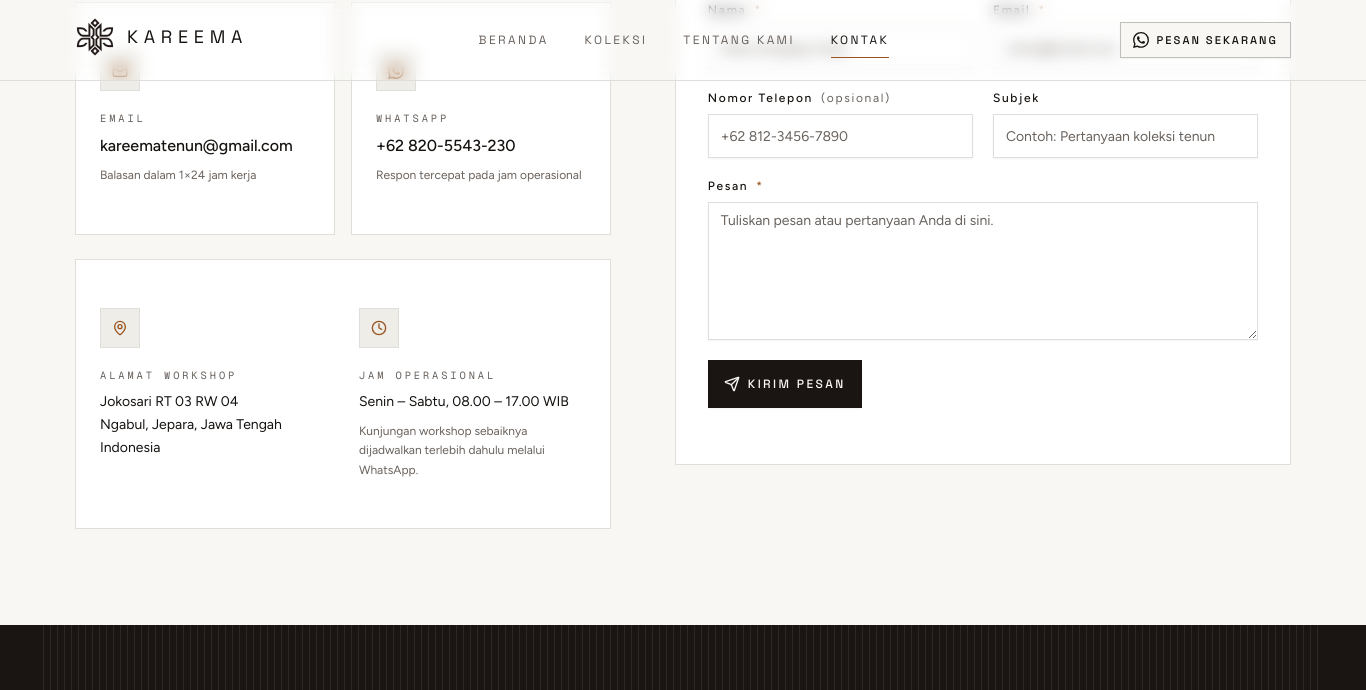
Test: ContactPage journey › blocks submission and reports required fields when the form is empty
(page scrolled)
Click the button "Kirim Pesan": [785, 384] box x1=708 y1=360 x2=862 y2=408
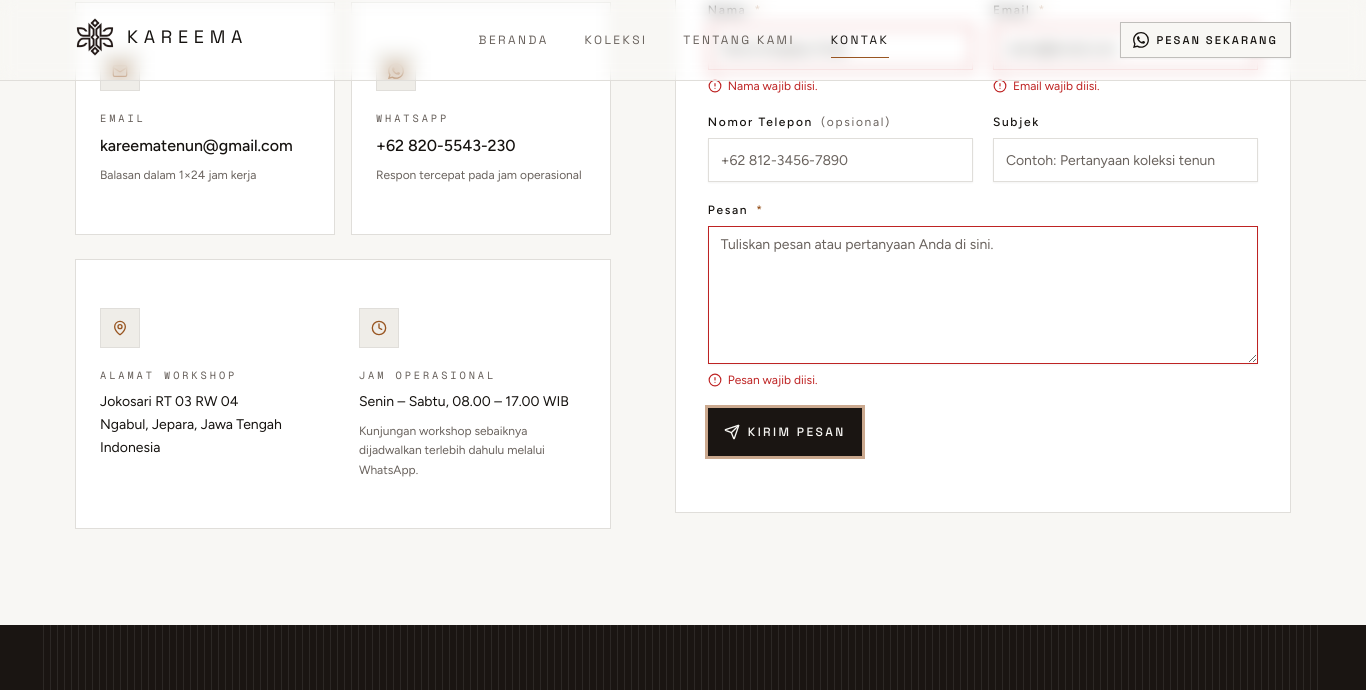
Expected: the text "Nama wajib diisi." is shown, x1=708 y1=79 x2=817 y2=93
Expected: the text "Email wajib diisi." is shown, x1=993 y1=79 x2=1100 y2=93
Expected: the text "Pesan wajib diisi." is shown, x1=708 y1=373 x2=817 y2=387
